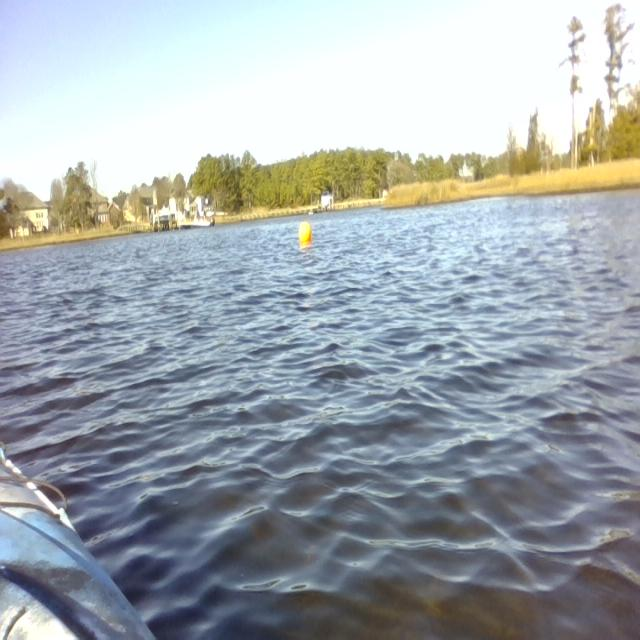Buoy: (295, 218, 314, 250)
